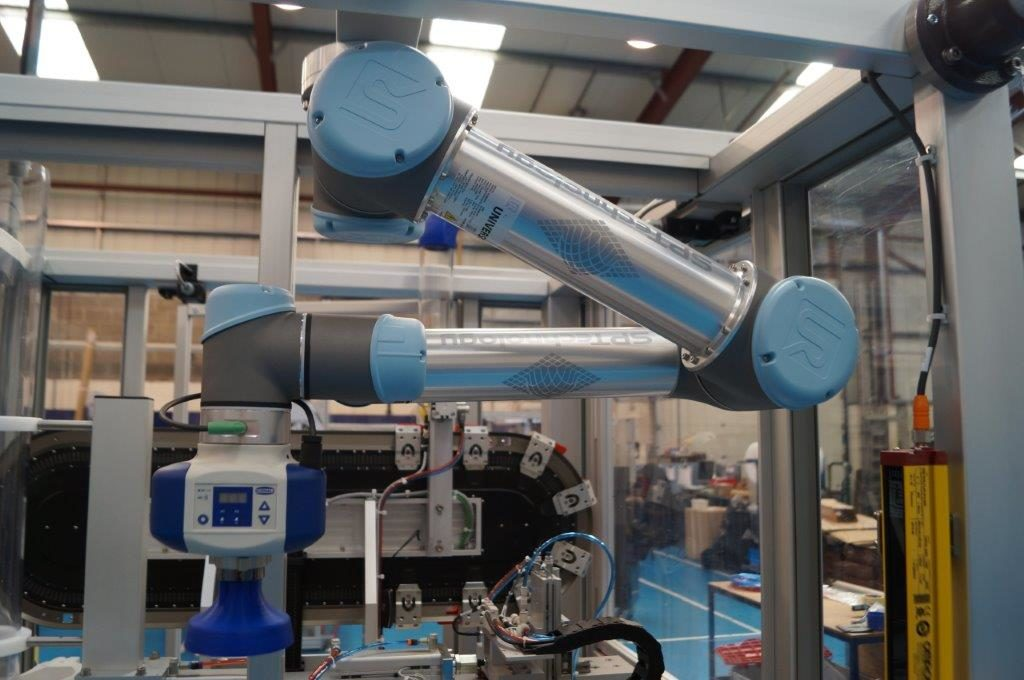robot: (148, 9, 860, 658)
